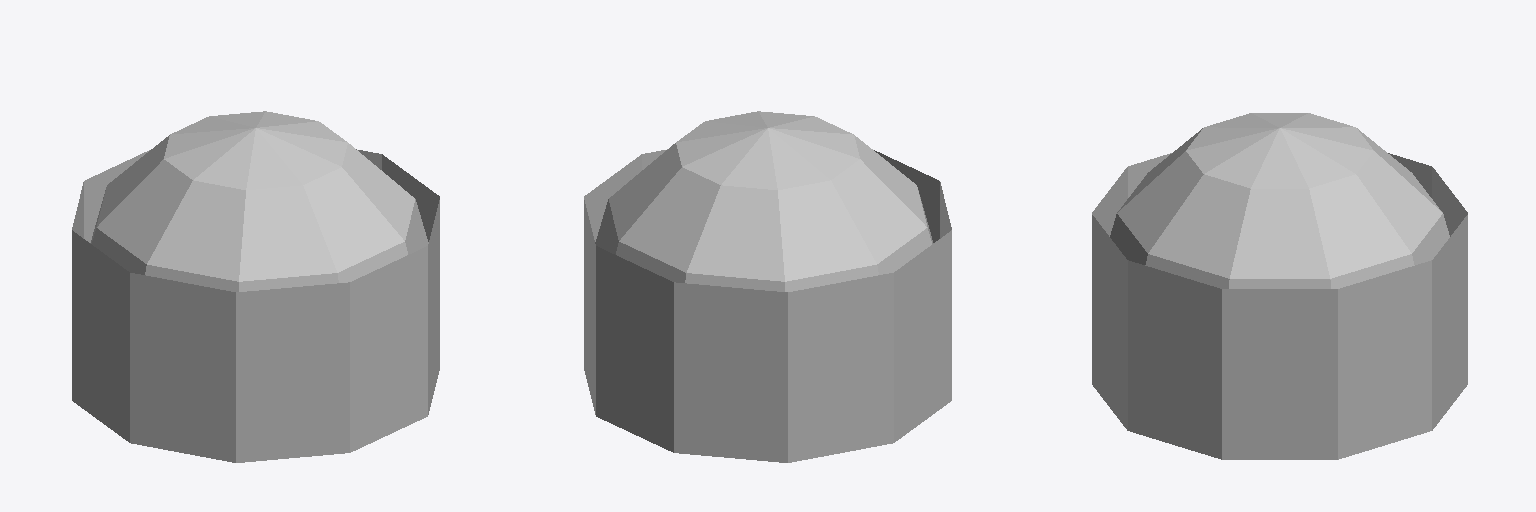
File: vis_lowQ.obj
3 views of the same model, side by side, from view 1: azimuth 30°, elevation 25°; view 2: azimuth 150°, elevation 25°; view 3: azimuth 270°, elevation 25° (orthographic).
Parts seen in each view (by area): view 1: Cylinder, Sphere; view 2: Cylinder, Sphere; view 3: Cylinder, Sphere.
Part boxes in pixels (x1,y1,x2,y2): Cylinder: (72, 149, 439, 462); Sphere: (90, 111, 428, 291); Cylinder: (584, 149, 951, 462); Sphere: (595, 111, 933, 291); Cylinder: (1092, 153, 1467, 459); Sphere: (1110, 113, 1449, 288).
Bounding box in the file's own units: 1.9 × 1.5 × 2.